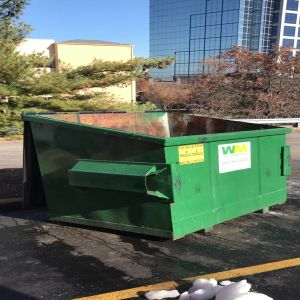Dumpster: (20, 110, 295, 241)
